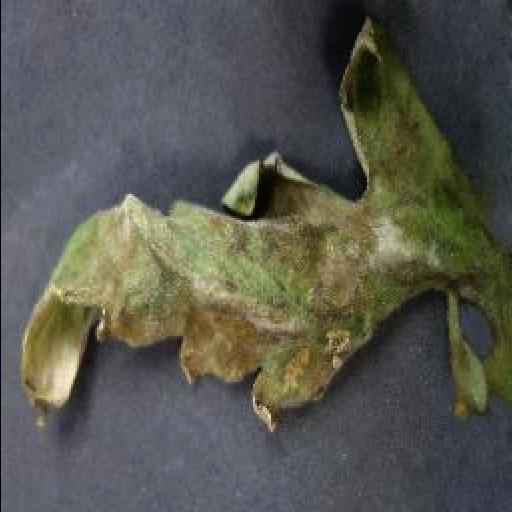disease_tomato: (18, 13, 512, 451)
